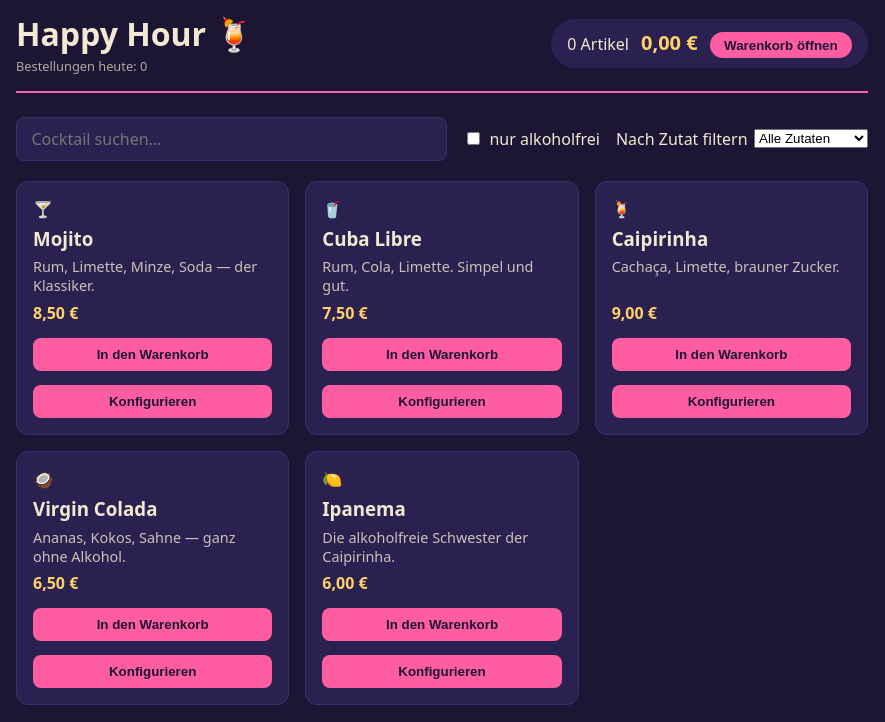
App › zählt denselben Cocktail zusammen (2× Mojito → 2 Artikel, 17,00 €)
This screenshot has width=885, height=722.
Step 1. Click the button "In den Warenkorb" below "8,50 €" → (153, 354), box [33,338,272,371]
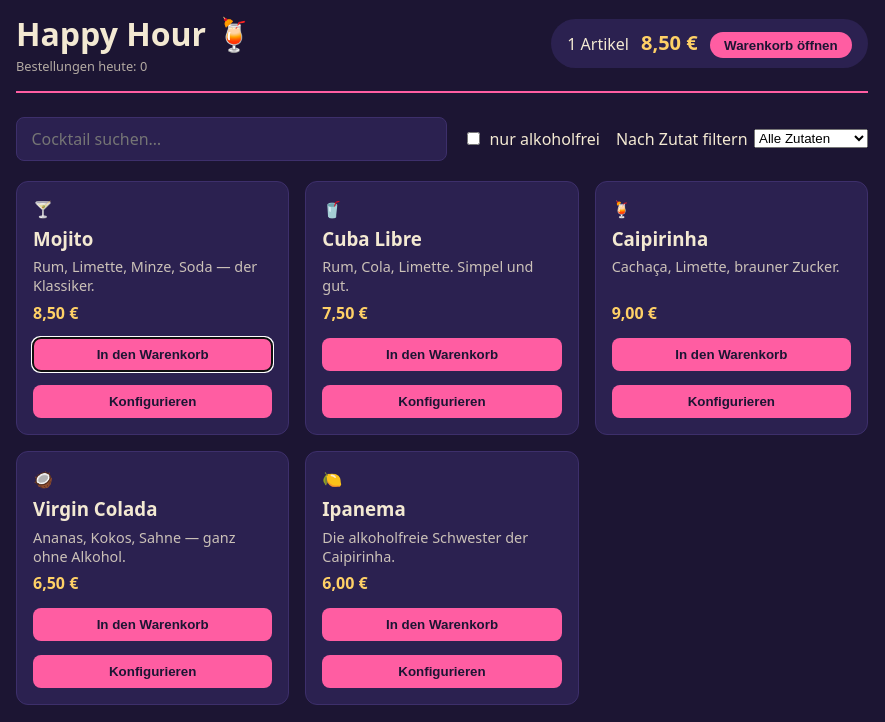
Step 2. Click the button "In den Warenkorb" below "Mojito" → (153, 354), box [33,338,272,371]
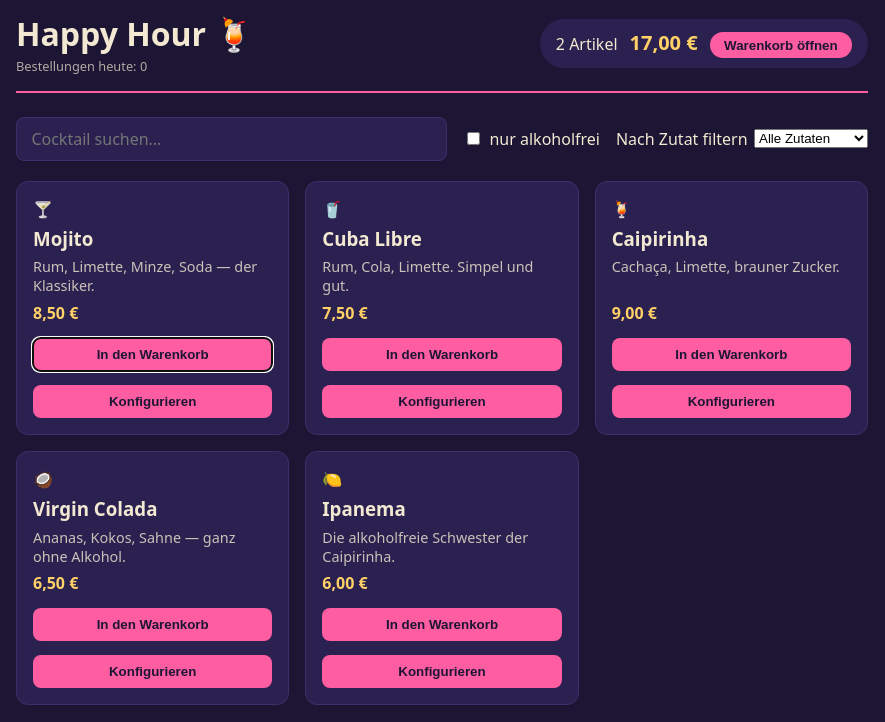
Expected: the text "2 Artikel" is shown, [556,33,618,55]
Expected: the text "17,00 €" is shown, [630,29,698,56]
